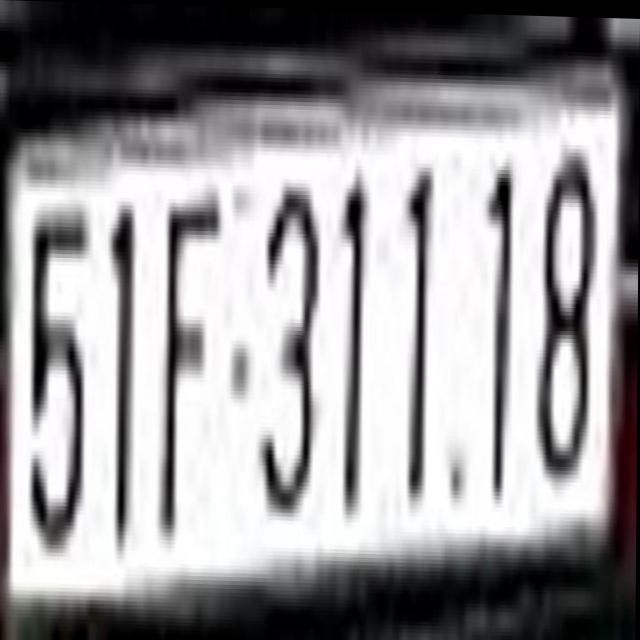1: (406, 161, 439, 507), (485, 155, 515, 505), (109, 193, 137, 554), (338, 175, 366, 529)
3: (262, 142, 320, 535)
5: (29, 206, 89, 549)
8: (538, 129, 599, 506)
F: (161, 186, 221, 537)
